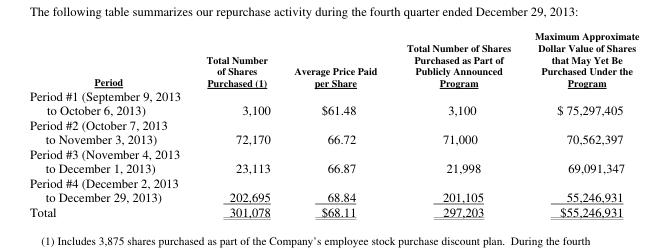table: (28, 28, 638, 219)
table column: (28, 28, 192, 219), (391, 28, 522, 219), (522, 28, 638, 219), (281, 28, 391, 219), (192, 28, 281, 219)
table column header: (28, 28, 638, 87)
table row: (28, 28, 638, 87), (28, 87, 638, 116), (28, 116, 638, 145), (28, 145, 638, 174), (28, 174, 638, 203), (28, 203, 638, 219)
